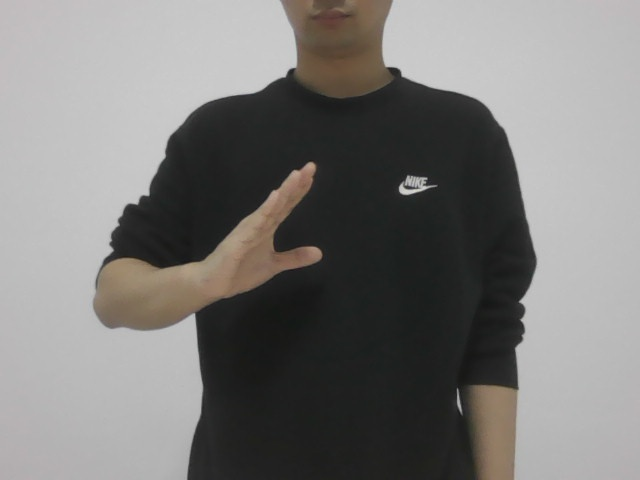morning: (204, 152, 344, 310)
